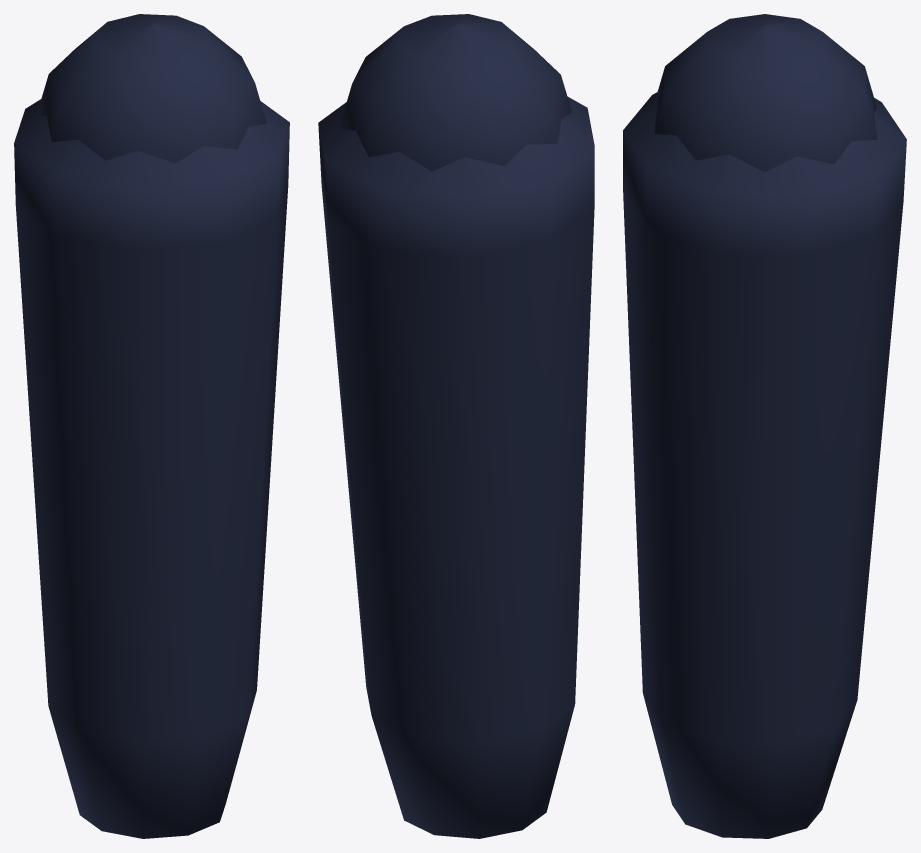
Rendered from thigh_R.obj.
3 renders of one model, left to right at view 1: azimuth 30°, elevation 25°; view 2: azimuth 150°, elevation 25°; view 3: azimuth 270°, elevation 25°, orthographic.
Visible parts, largest first — view 1: thigh_R; view 2: thigh_R; view 3: thigh_R.
Boxes of the visible parts, bbox=[...] form: thigh_R: bbox=[14, 14, 289, 838]; thigh_R: bbox=[318, 14, 594, 838]; thigh_R: bbox=[623, 14, 906, 838].
Size of the model in its own units: 0.1678 by 0.5483 by 0.175.
